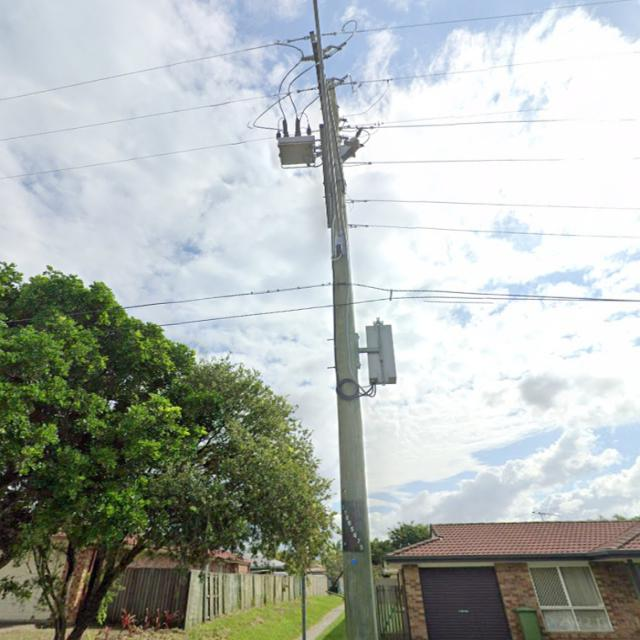HV-switch: (276, 117, 320, 169)
HV-transmission: (287, 30, 359, 132)
crossarm: (319, 124, 334, 229), (310, 32, 326, 124)
timber-pole: (327, 77, 379, 640)
